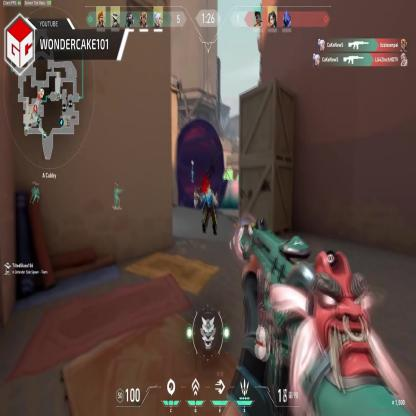enemy: (193, 186, 200, 210)
enemy_head: (194, 186, 198, 192)
